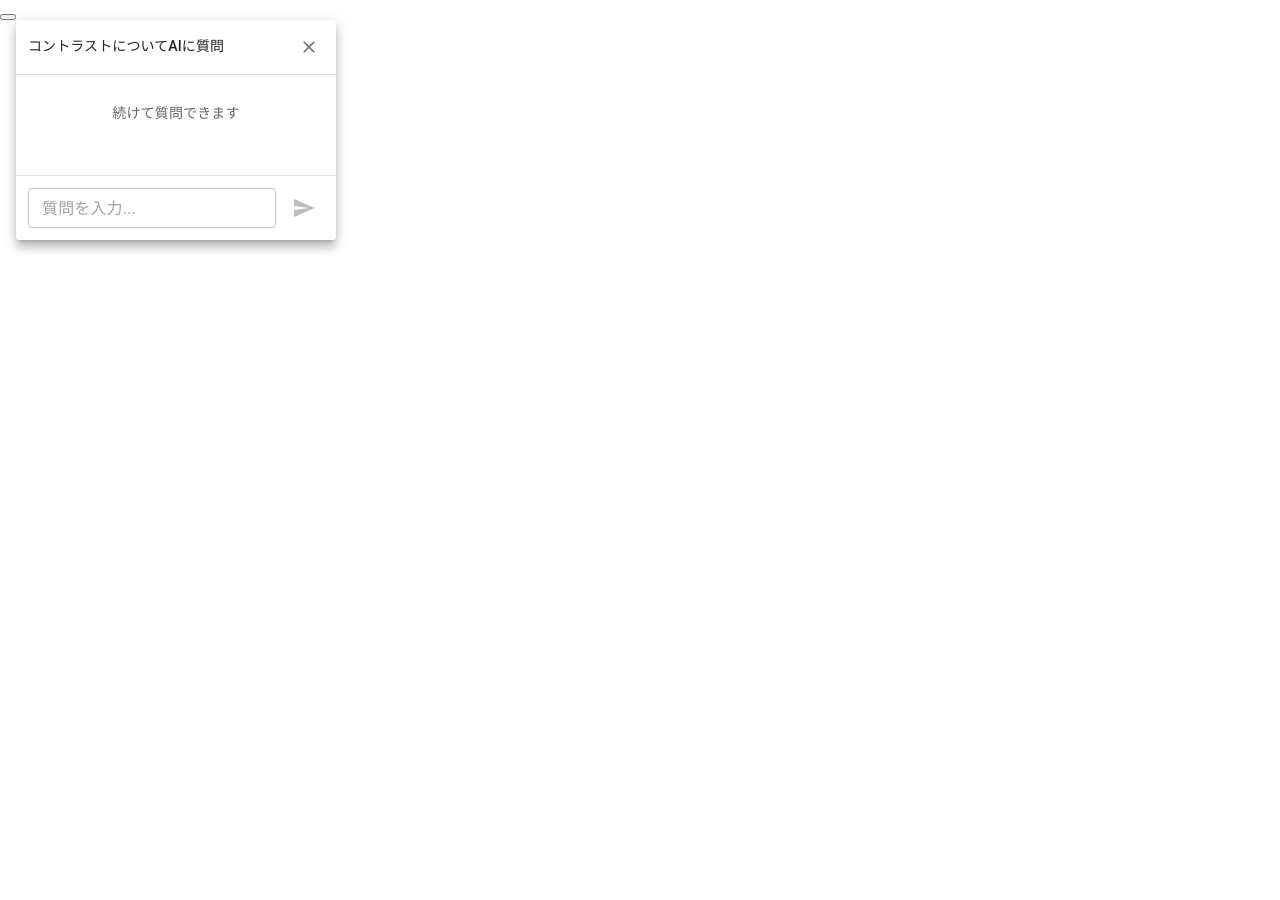
Scenario: AIChatPopover › 参照URL表示（Grounding対応） › should use domain field from referenceLinks
The image size is (1280, 900).
Type "テスト質問" into the field labelled "質問を入力...".
click(152, 208); type("テスト質問")  # box [28, 188, 276, 228]
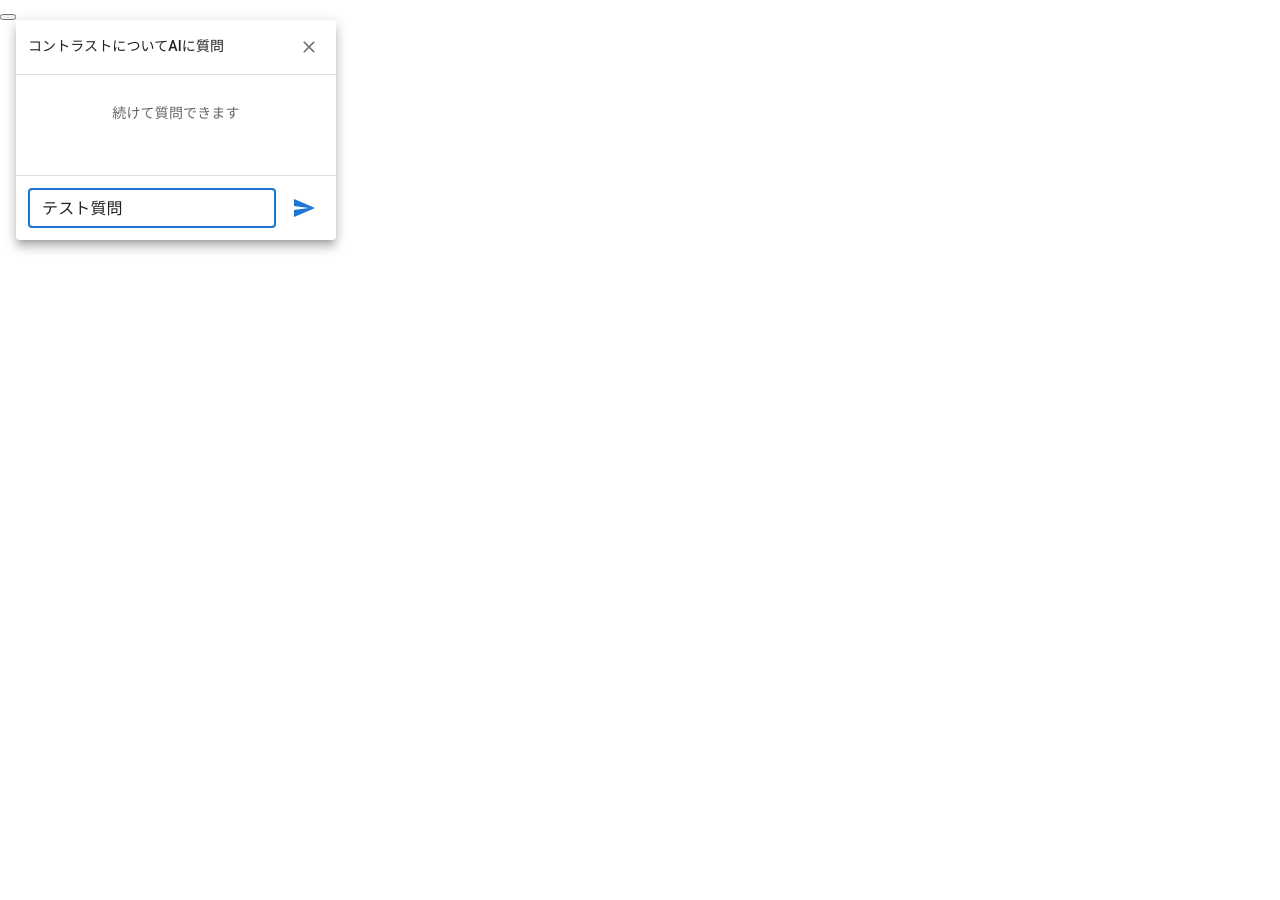
Click the button named "送信".
click(304, 208)  # box [284, 188, 324, 228]
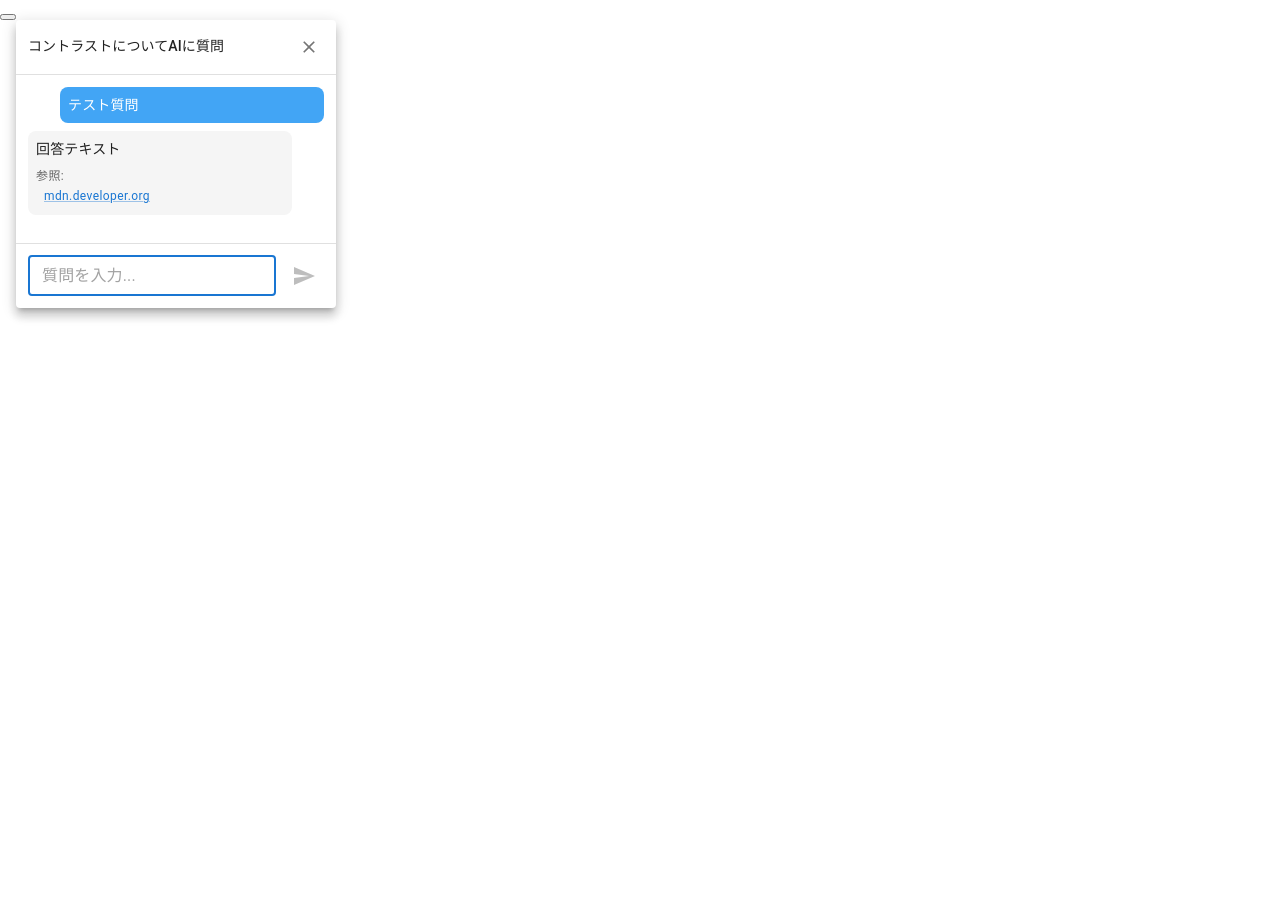
Now the link "mdn.developer.org" is shown, box [44, 189, 150, 203]
